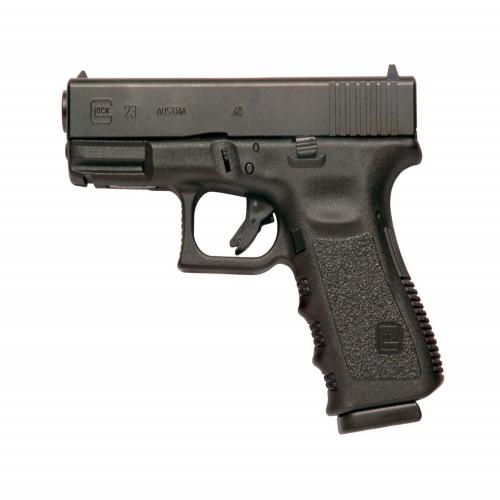gun: (56, 61, 447, 439)
